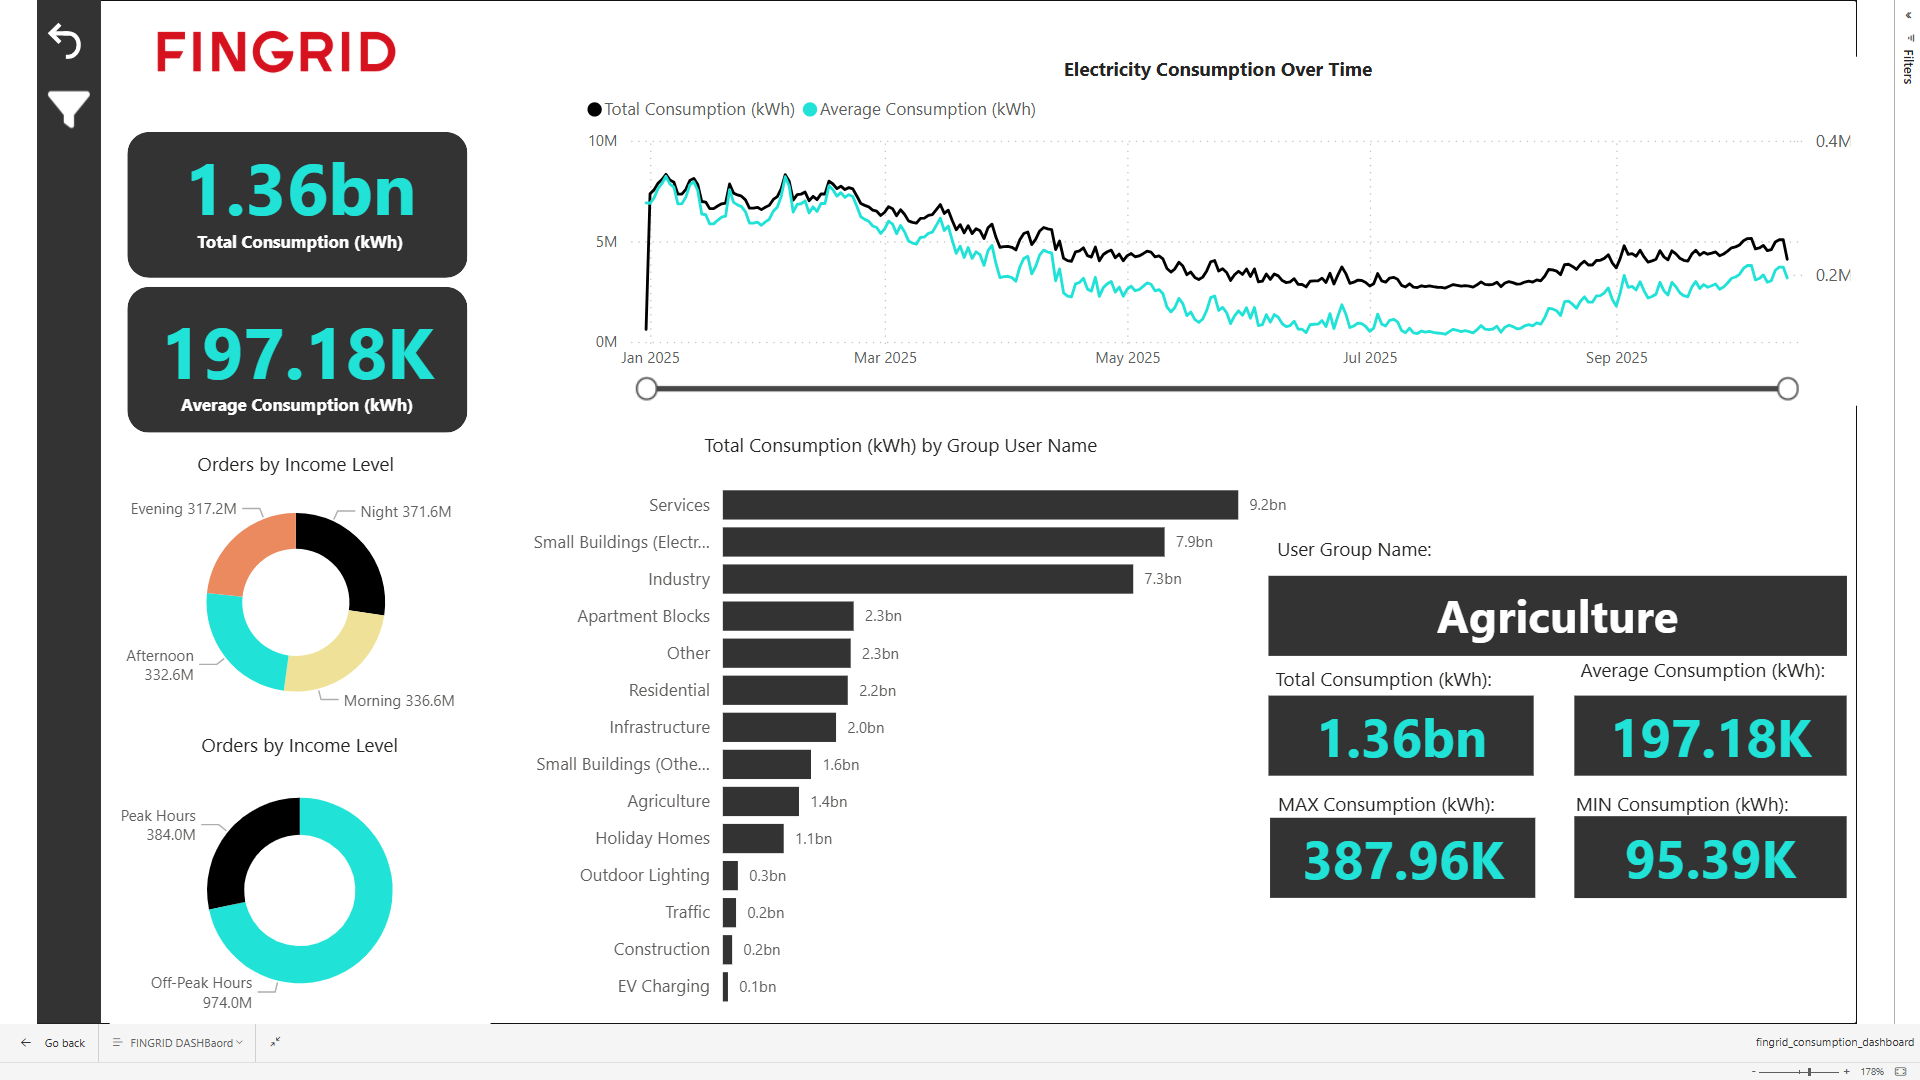

What the dashboard file says about the page in this screenshot:
{"tool":"powerbi","page":{"name":"FINGRID DASHBaord","canvas":[1280,720],"ordinal":0},"visuals":[{"type":"clusteredBarChart","title":"Total Consumption (kWh) by Group User Name","fields":{"Y":[" Measures.Total Consumption (kWh)"],"Category":["dim_usergroup.user_group_name"]},"box":[331.2,303.8,552.5,416.2],"z":0},{"type":"donutChart","title":"Orders by Income Level","fields":{"Category":["dim_hour.peak_description"],"Y":["Sum(fact_consumption.total_consumption_kwh)"]},"box":[51.2,515,267.5,205],"z":1000},{"type":"shape","box":[63.8,92.5,239.5,102.8],"z":2000,"group":"g1"},{"type":"donutChart","title":"Orders by Income Level","fields":{"Category":["dim_hour.period_of_day"],"Y":[" Measures.Total Consumption (kWh)"]},"box":[42.5,317.5,278.8,195],"z":2000},{"type":"lineChart","title":"Electricity Consumption Over Time","fields":{"Y":[" Measures.Total Consumption (kWh)"],"Category":["dim_date.year Hierarchy.year","dim_date.year Hierarchy.quarter","dim_date.year Hierarchy.month_name","dim_date.year Hierarchy.date","dim_date.year Hierarchy.day_of_month"],"Y2":[" Measures.Average Consumption (kWh)"]},"box":[381.2,40,898.8,245],"z":3000},{"type":"shape","box":[63.8,201.4,239.5,102.8],"z":3000,"group":"g1"},{"type":"group","id":"g1","title":"Group 2","box":[63.8,92.5,240,211.2],"z":5000},{"type":"group","id":"g2","title":"Group 1","box":[55,62.5,257.5,265],"z":6000},{"type":"card","fields":{"Values":[" Measures.Average Consumption (kWh)"]},"box":[55,177.5,255.9,149.9],"z":6000,"group":"g2"},{"type":"image","box":[75,10,186.2,52.5],"z":7000},{"type":"card","fields":{"Values":["Min(dim_usergroup.user_group_name)"]},"box":[866.2,405,406.9,56.6],"z":7000,"group":"g4"},{"type":"card","fields":{"Values":[" Measures.Total Consumption (kWh)"]},"box":[57.3,62.5,255.9,149.9],"z":8000,"group":"g2"},{"type":"group","id":"g3","title":"Group 4","box":[866.2,372.6,401.2,258.8],"z":8000},{"type":"card","fields":{"Values":[" Measures.Total Consumption (kWh)"]},"box":[866.2,489.2,187.2,56.6],"z":8000,"group":"g4"},{"type":"shape","title":"Left Nav Background","box":[0,0,45,720],"z":9000},{"type":"card","fields":{"Values":[" Measures.Average Consumption (kWh)"]},"box":[1081.3,489.2,191.8,56.6],"z":9000,"group":"g4"},{"type":"actionButton","box":[2.5,10,35,36.2],"z":10000},{"type":"textbox","box":[866.2,464.4,187.2,32.9],"z":10000,"group":"g4"},{"type":"actionButton","box":[3.8,57.5,37.5,40],"z":11000},{"type":"textbox","box":[1080.8,457.4,185.9,31.1],"z":11000,"group":"g3"},{"type":"textbox","box":[867.2,372.6,187,32.3],"z":12000,"group":"g4"},{"type":"card","fields":{"Values":[" Measures.Max Consumption (kWh)"]},"box":[867.2,575.4,187.2,56.5],"z":13000,"group":"g4"},{"type":"card","fields":{"Values":[" Measures.Min Consumption (kWh)"]},"box":[1081.6,574.5,191.4,57.4],"z":14000,"group":"g4"},{"type":"textbox","box":[867.7,551.6,187.2,32.9],"z":15000,"group":"g4"},{"type":"textbox","box":[1077.3,551.6,187.2,32.9],"z":16000,"group":"g4"},{"type":"group","id":"g4","title":"Group 3","box":[866.2,372.6,400.2,259.3],"z":17001,"group":"g3"}]}

Visuals, with their boxes in screenshot pixels (x1, y1, x2, y2):
"Total Consumption (kWh) by Group User Name" clusteredBarChart: (left=503, top=423, right=1291, bottom=1017)
"Orders by Income Level" donutChart: (left=103, top=725, right=485, bottom=1017)
shape: (left=121, top=122, right=463, bottom=269)
"Orders by Income Level" donutChart: (left=91, top=443, right=488, bottom=721)
"Electricity Consumption Over Time" lineChart: (left=574, top=47, right=1856, bottom=397)
shape: (left=121, top=277, right=463, bottom=424)
"Group 2" group: (left=121, top=122, right=463, bottom=423)
"Group 1" group: (left=108, top=79, right=476, bottom=457)
card -  Measures.Average Consumption (kWh): (left=108, top=243, right=474, bottom=457)
image: (left=137, top=4, right=403, bottom=79)
card - Min(dim_usergroup.user_group_name): (left=1266, top=568, right=1846, bottom=649)
card -  Measures.Total Consumption (kWh): (left=112, top=79, right=477, bottom=293)
"Group 4" group: (left=1266, top=522, right=1838, bottom=891)
card -  Measures.Total Consumption (kWh): (left=1266, top=688, right=1533, bottom=769)
"Left Nav Background" shape: (left=30, top=0, right=94, bottom=1017)
card -  Measures.Average Consumption (kWh): (left=1573, top=688, right=1846, bottom=769)
actionButton: (left=34, top=4, right=84, bottom=56)
textbox: (left=1266, top=653, right=1533, bottom=700)
actionButton: (left=35, top=72, right=89, bottom=129)
textbox: (left=1572, top=643, right=1837, bottom=687)
textbox: (left=1267, top=522, right=1534, bottom=568)
card -  Measures.Max Consumption (kWh): (left=1267, top=811, right=1534, bottom=892)
card -  Measures.Min Consumption (kWh): (left=1573, top=810, right=1846, bottom=892)
textbox: (left=1268, top=777, right=1535, bottom=824)
textbox: (left=1567, top=777, right=1834, bottom=824)
"Group 3" group: (left=1266, top=522, right=1837, bottom=892)
